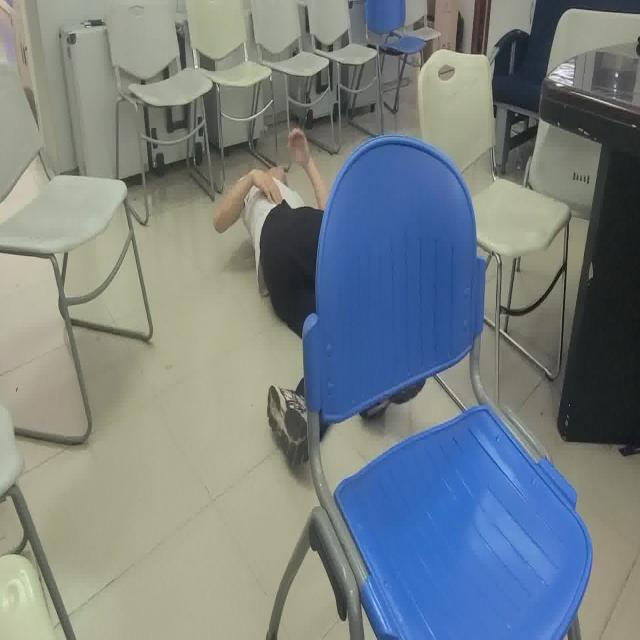Fall: (200, 114, 369, 464)
